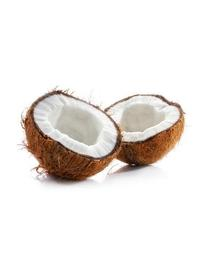coconut: (24, 91, 124, 180), (100, 94, 186, 167)
